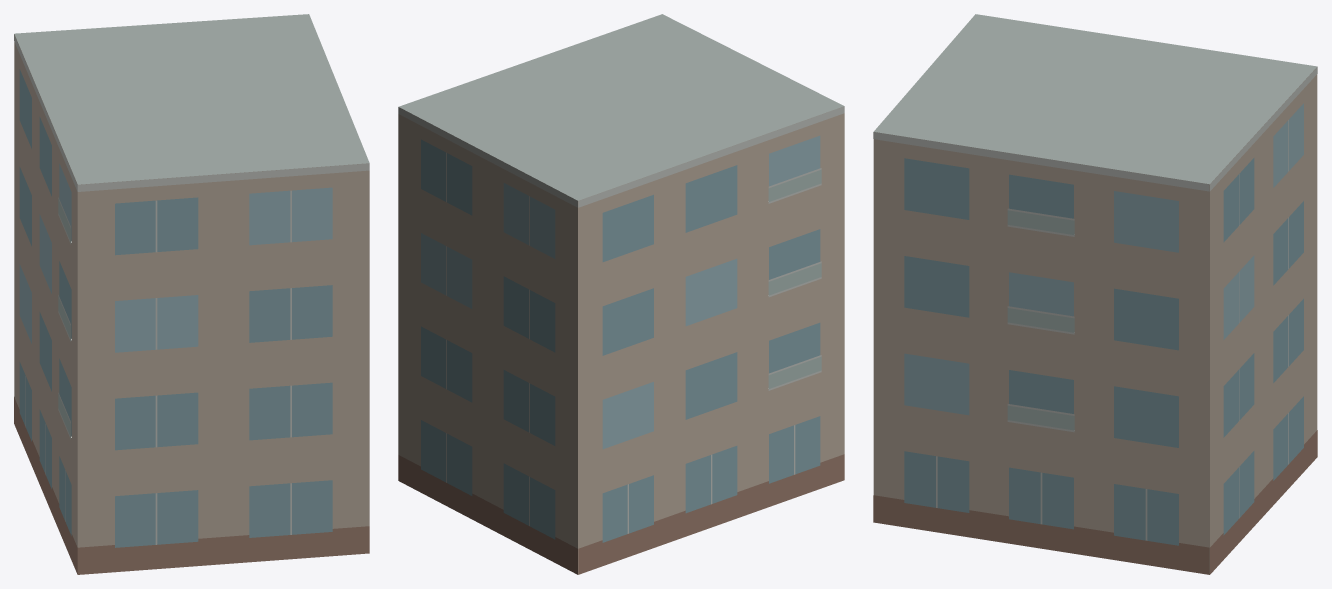
The model's file is survey-upis-32527393.glb.
The picture shows the model from 3 angles, left to right: view 1: azimuth 30°, elevation 25°; view 2: azimuth 150°, elevation 25°; view 3: azimuth 270°, elevation 25°; orthographic projection. The views are drawn at different scales.
Parts seen in each view (by area): view 1: survey-upis-32527393.tmp; view 2: survey-upis-32527393.tmp; view 3: survey-upis-32527393.tmp.
Boxes of the visible parts, x1=… form: survey-upis-32527393.tmp: x1=14, y1=14, x2=369, y2=574; survey-upis-32527393.tmp: x1=398, y1=14, x2=844, y2=574; survey-upis-32527393.tmp: x1=873, y1=14, x2=1317, y2=574.
Bounding box in the file's own units: 12.11 × 12.95 × 13.35.
